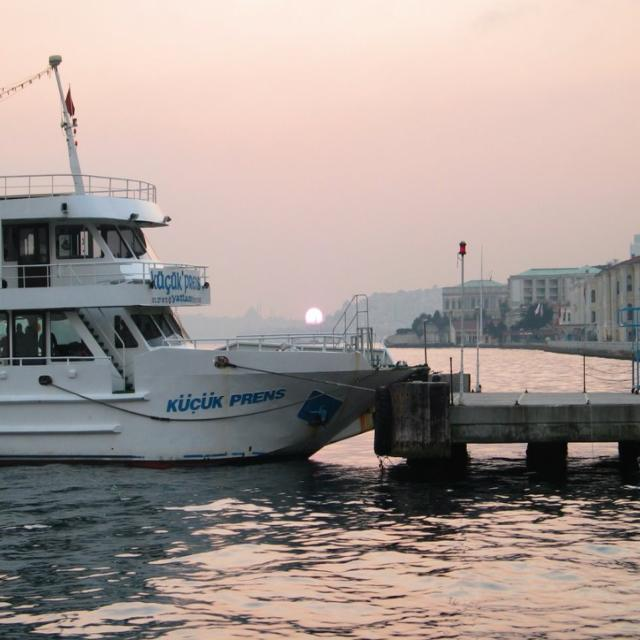houseboat: (0, 150, 390, 468)
